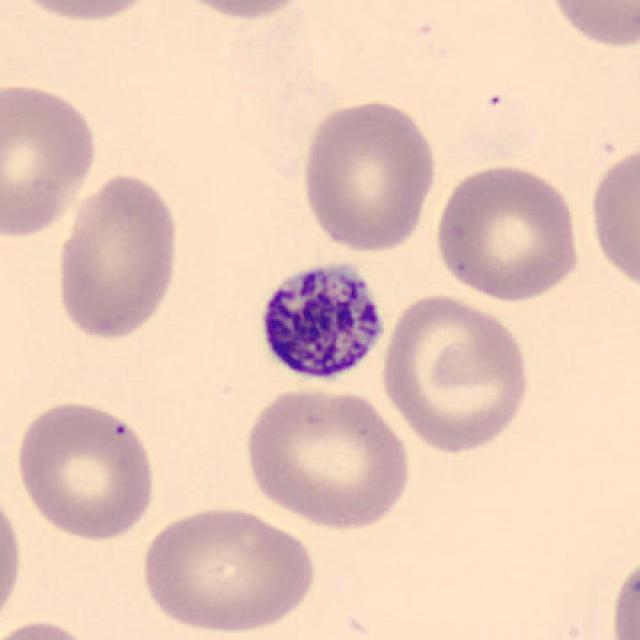Platelets: (247, 252, 389, 388)
RBC: (375, 289, 535, 457), (238, 382, 416, 530), (135, 501, 320, 636), (50, 169, 185, 346), (297, 95, 441, 254), (430, 159, 585, 303), (11, 397, 160, 543), (0, 77, 101, 239), (585, 140, 638, 294), (539, 0, 638, 51), (3, 0, 168, 26), (0, 480, 27, 633), (158, 0, 324, 23), (608, 548, 640, 640), (0, 615, 105, 640)
